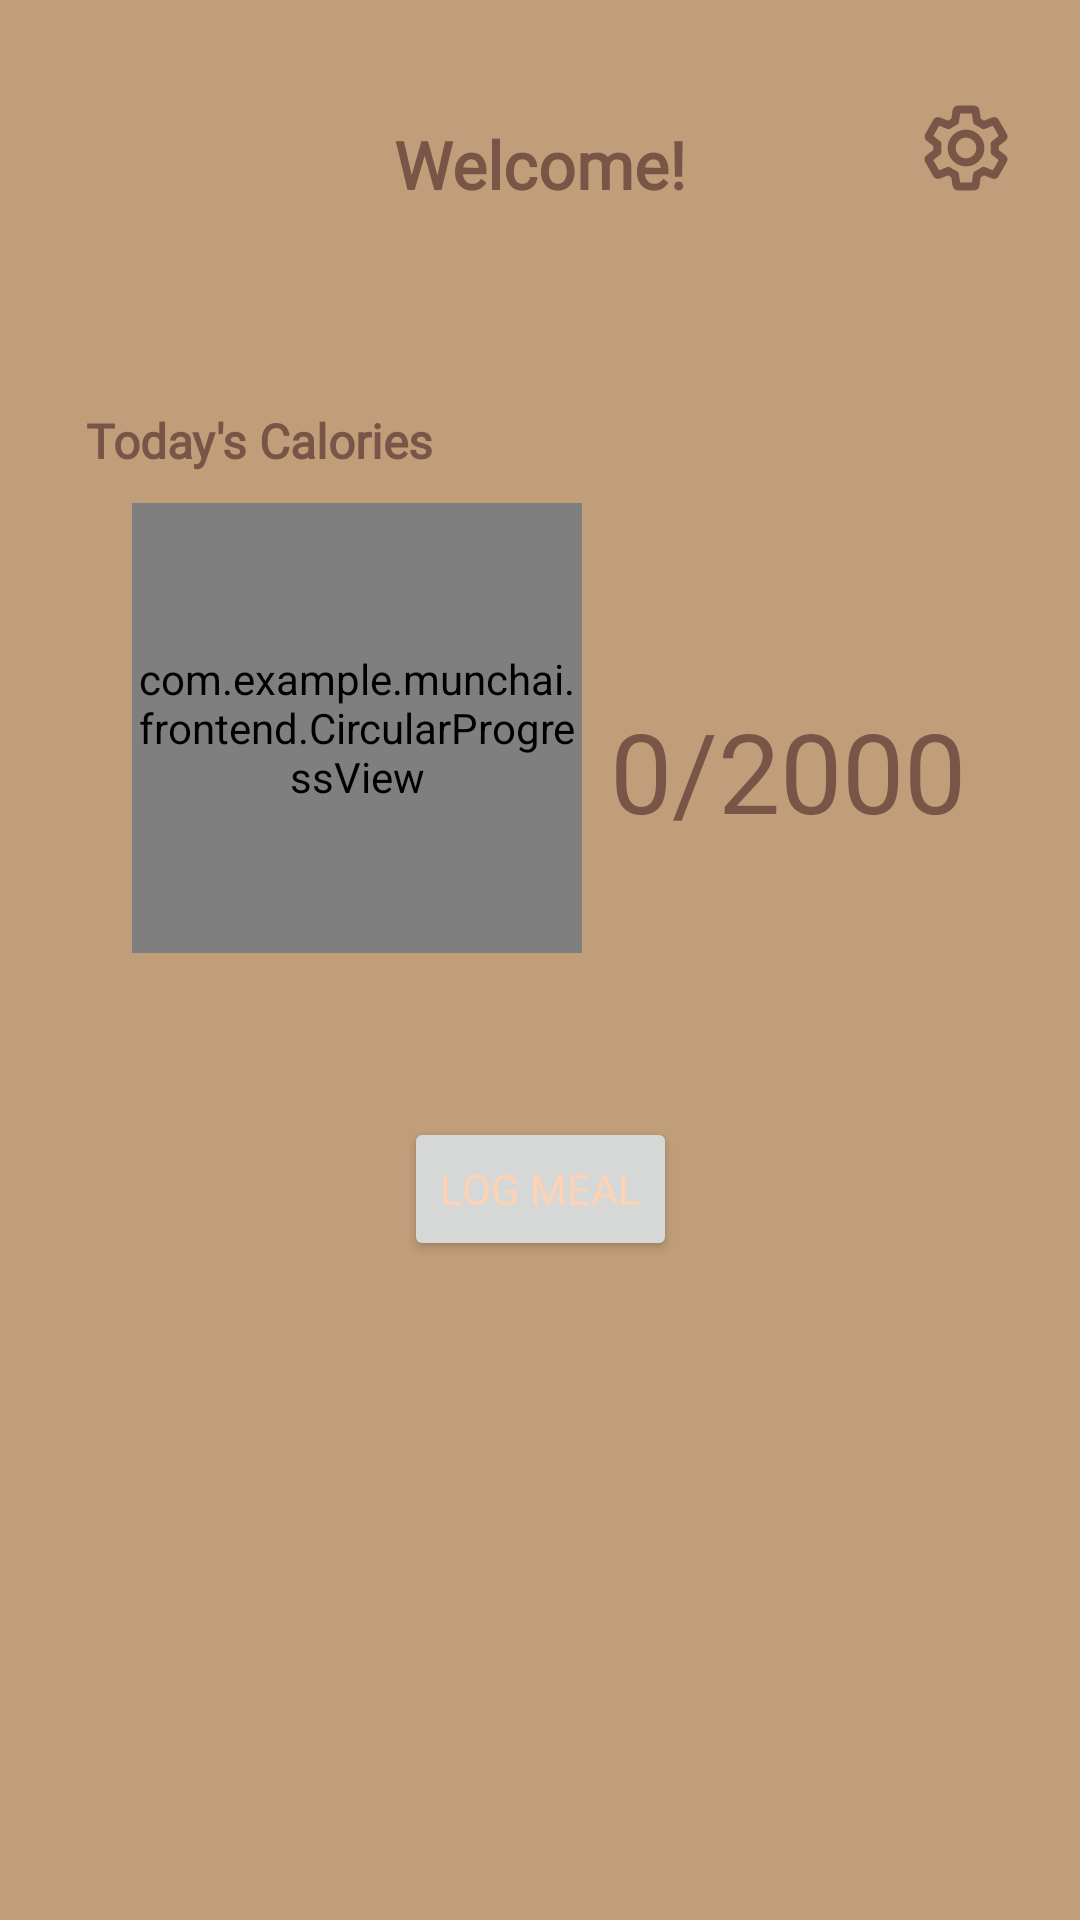

Where to tap for icons on this 1080*1920 app screen, as (x,y):
settings: (966,148)
